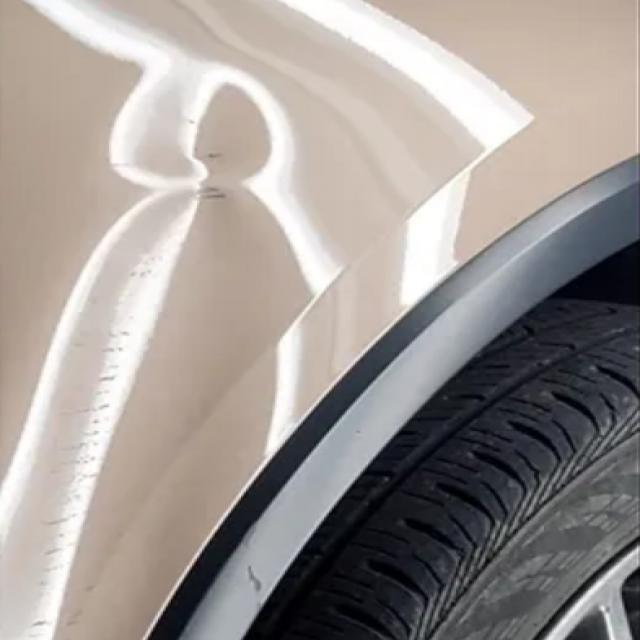dents: (99, 60, 280, 195)
